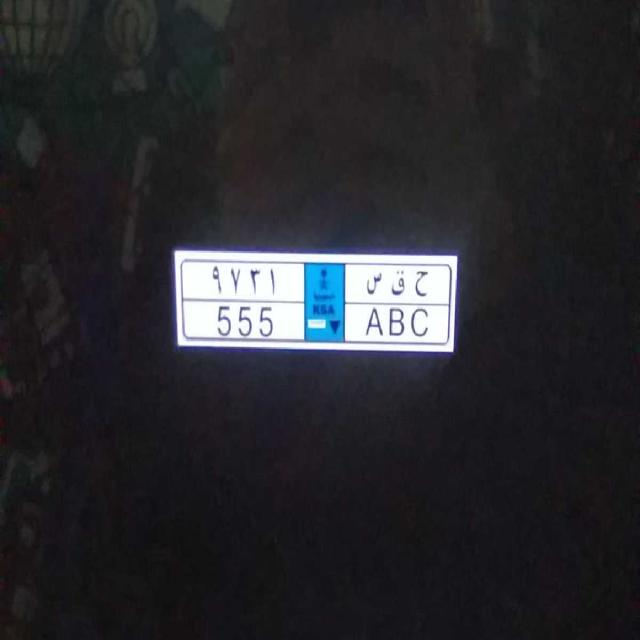license_plate: (201, 299, 436, 352)
